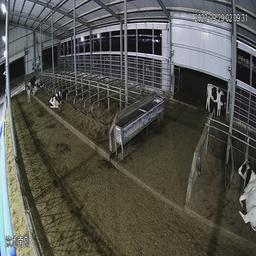cow: (235, 155, 256, 234), (202, 79, 228, 119), (46, 80, 70, 112), (21, 69, 38, 108)
